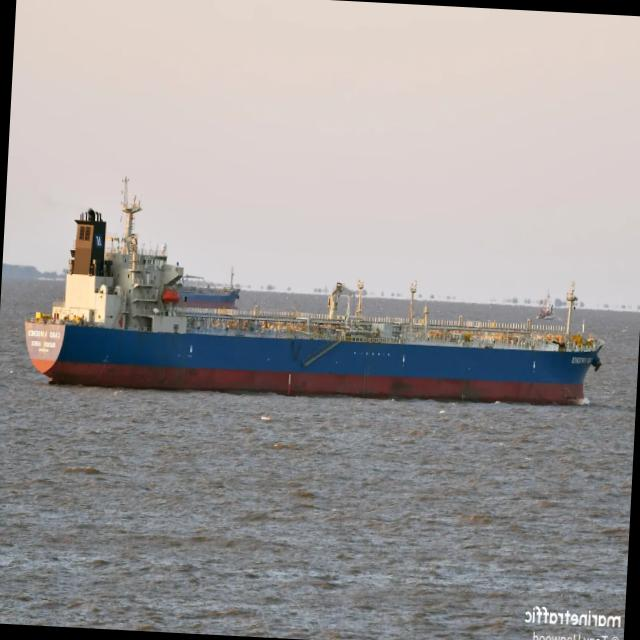Tanker: (25, 201, 603, 404)
